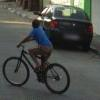bicycles: (1, 42, 71, 94)
